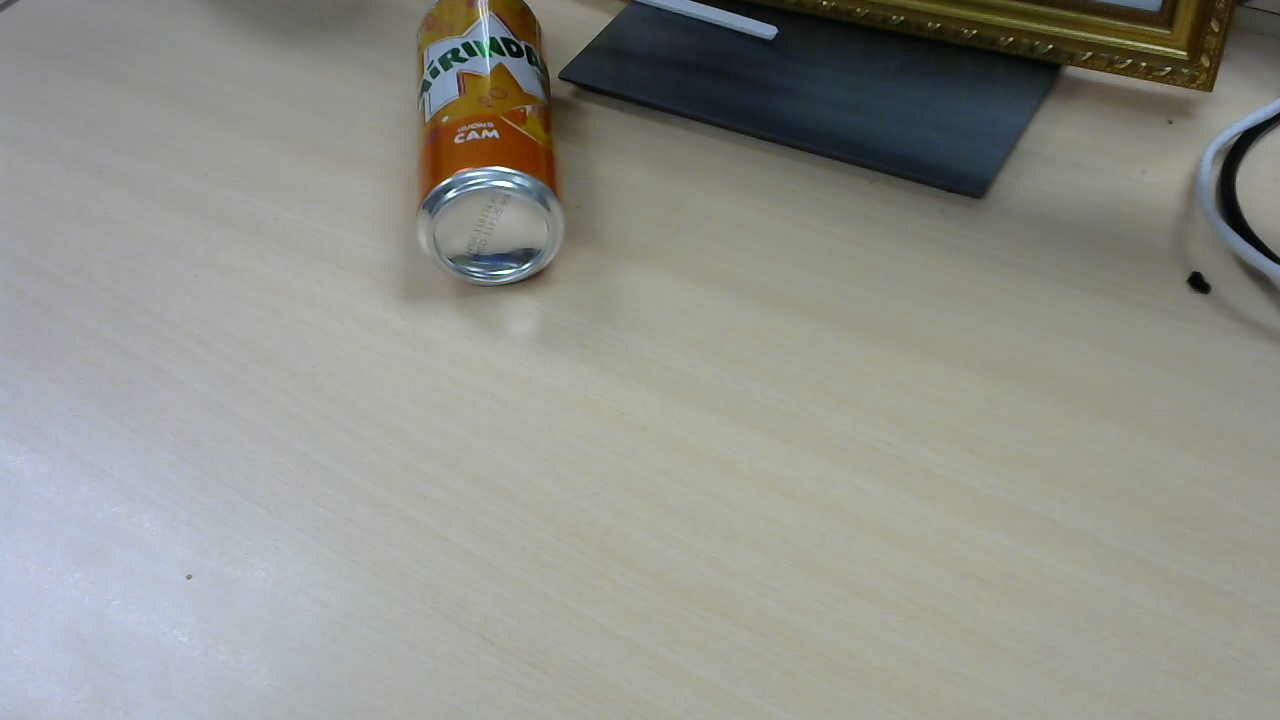Mirinda: (416, 3, 572, 292)
